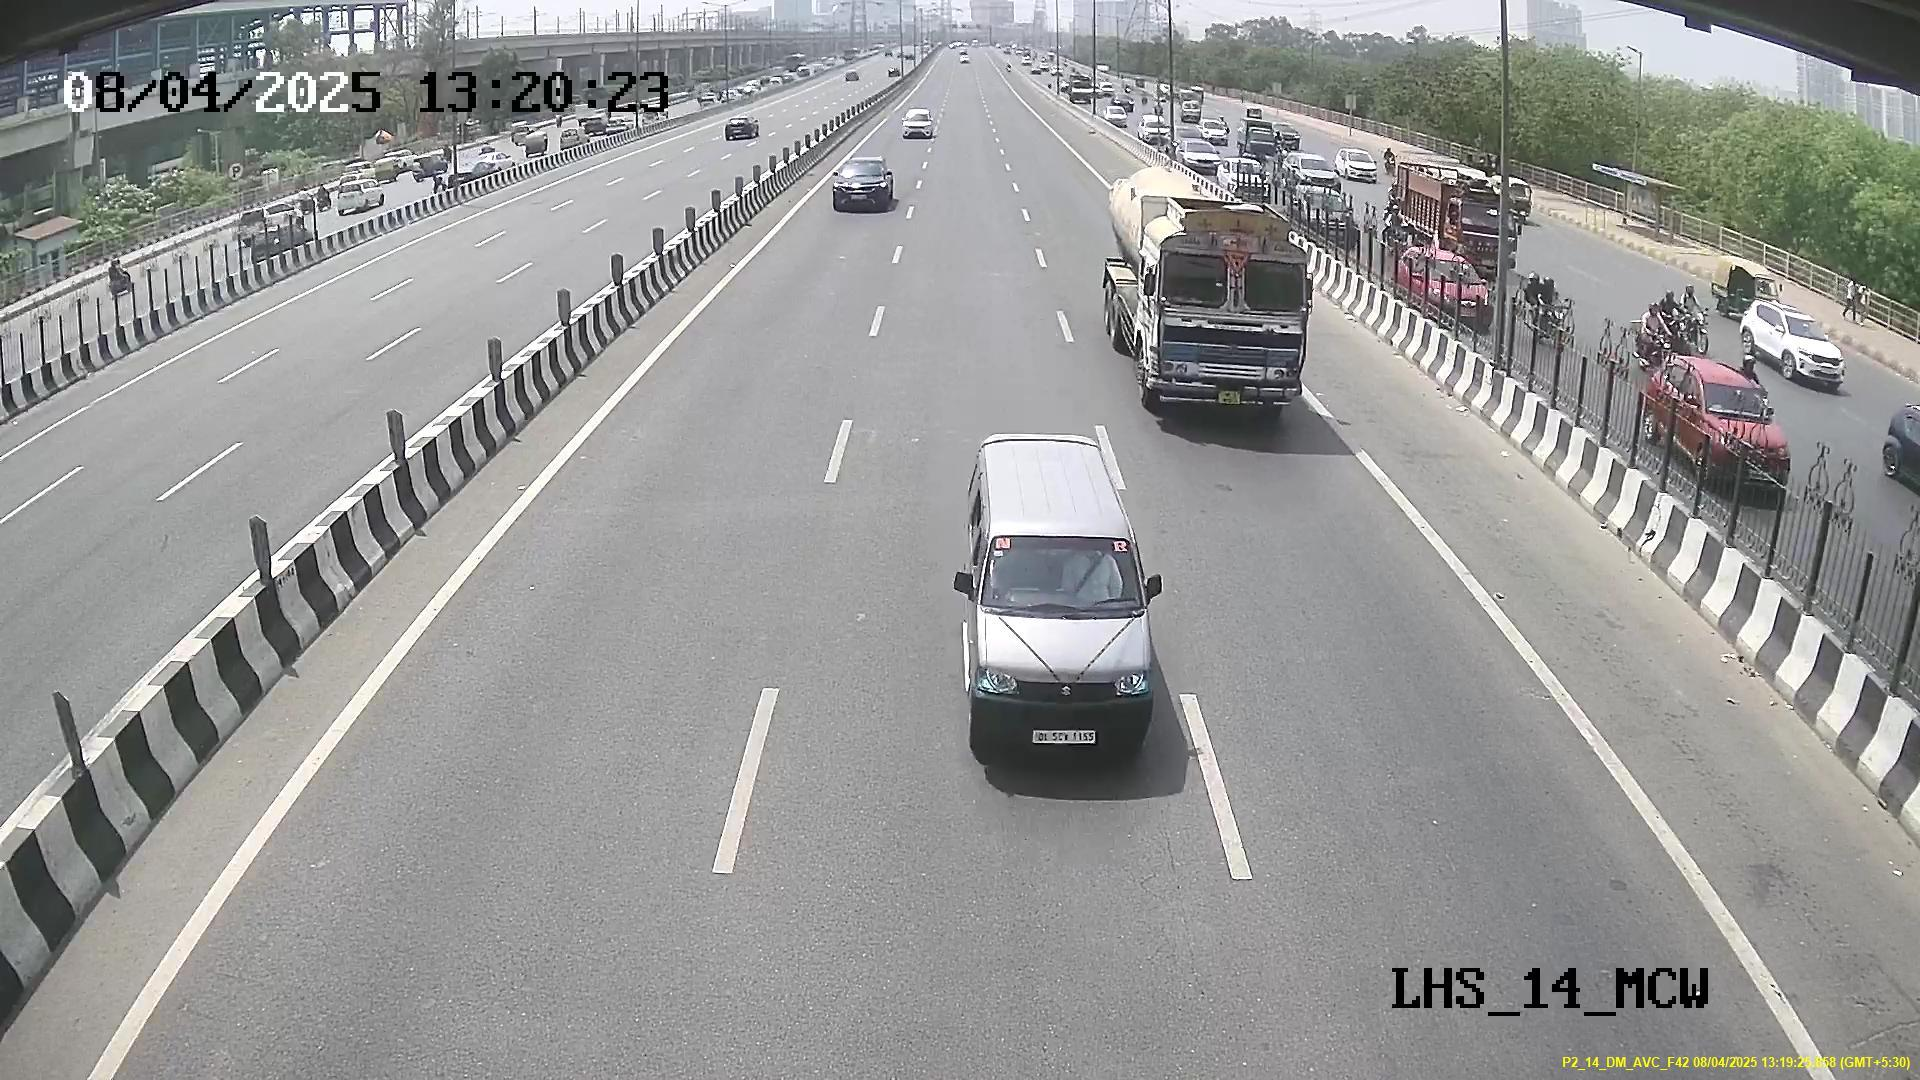car: (963, 508, 1159, 767), (827, 157, 899, 218)
truck: (1138, 214, 1309, 414)
